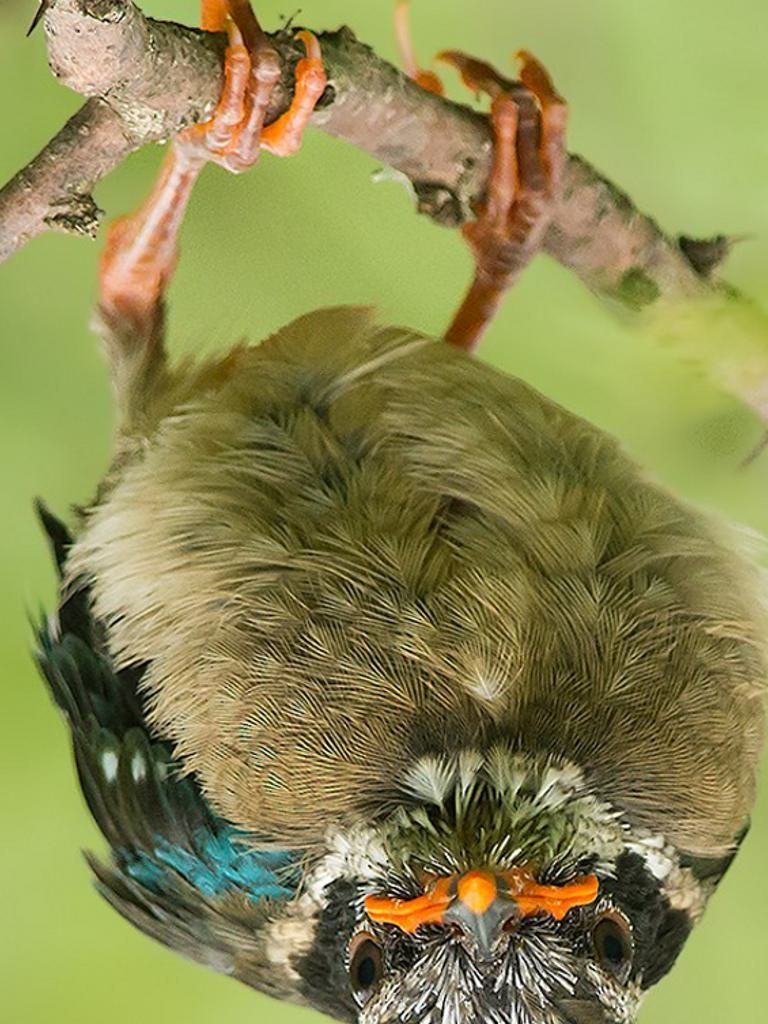pitta: (24, 172, 741, 1024)
